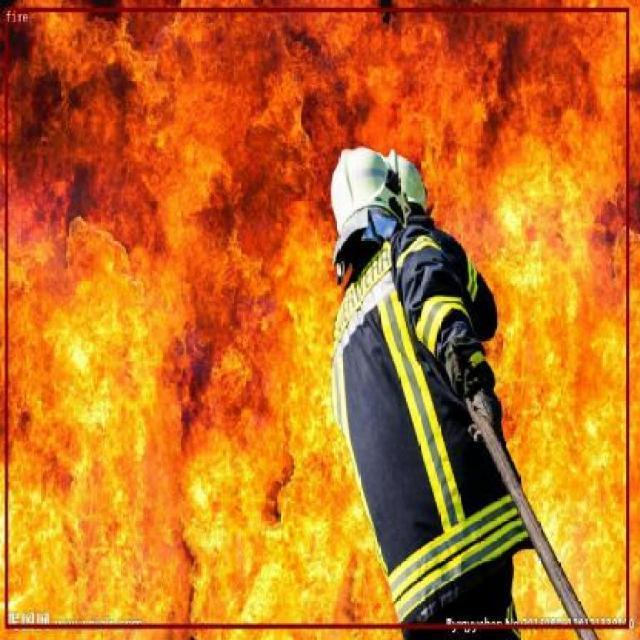Fire: (316, 317, 625, 622)
